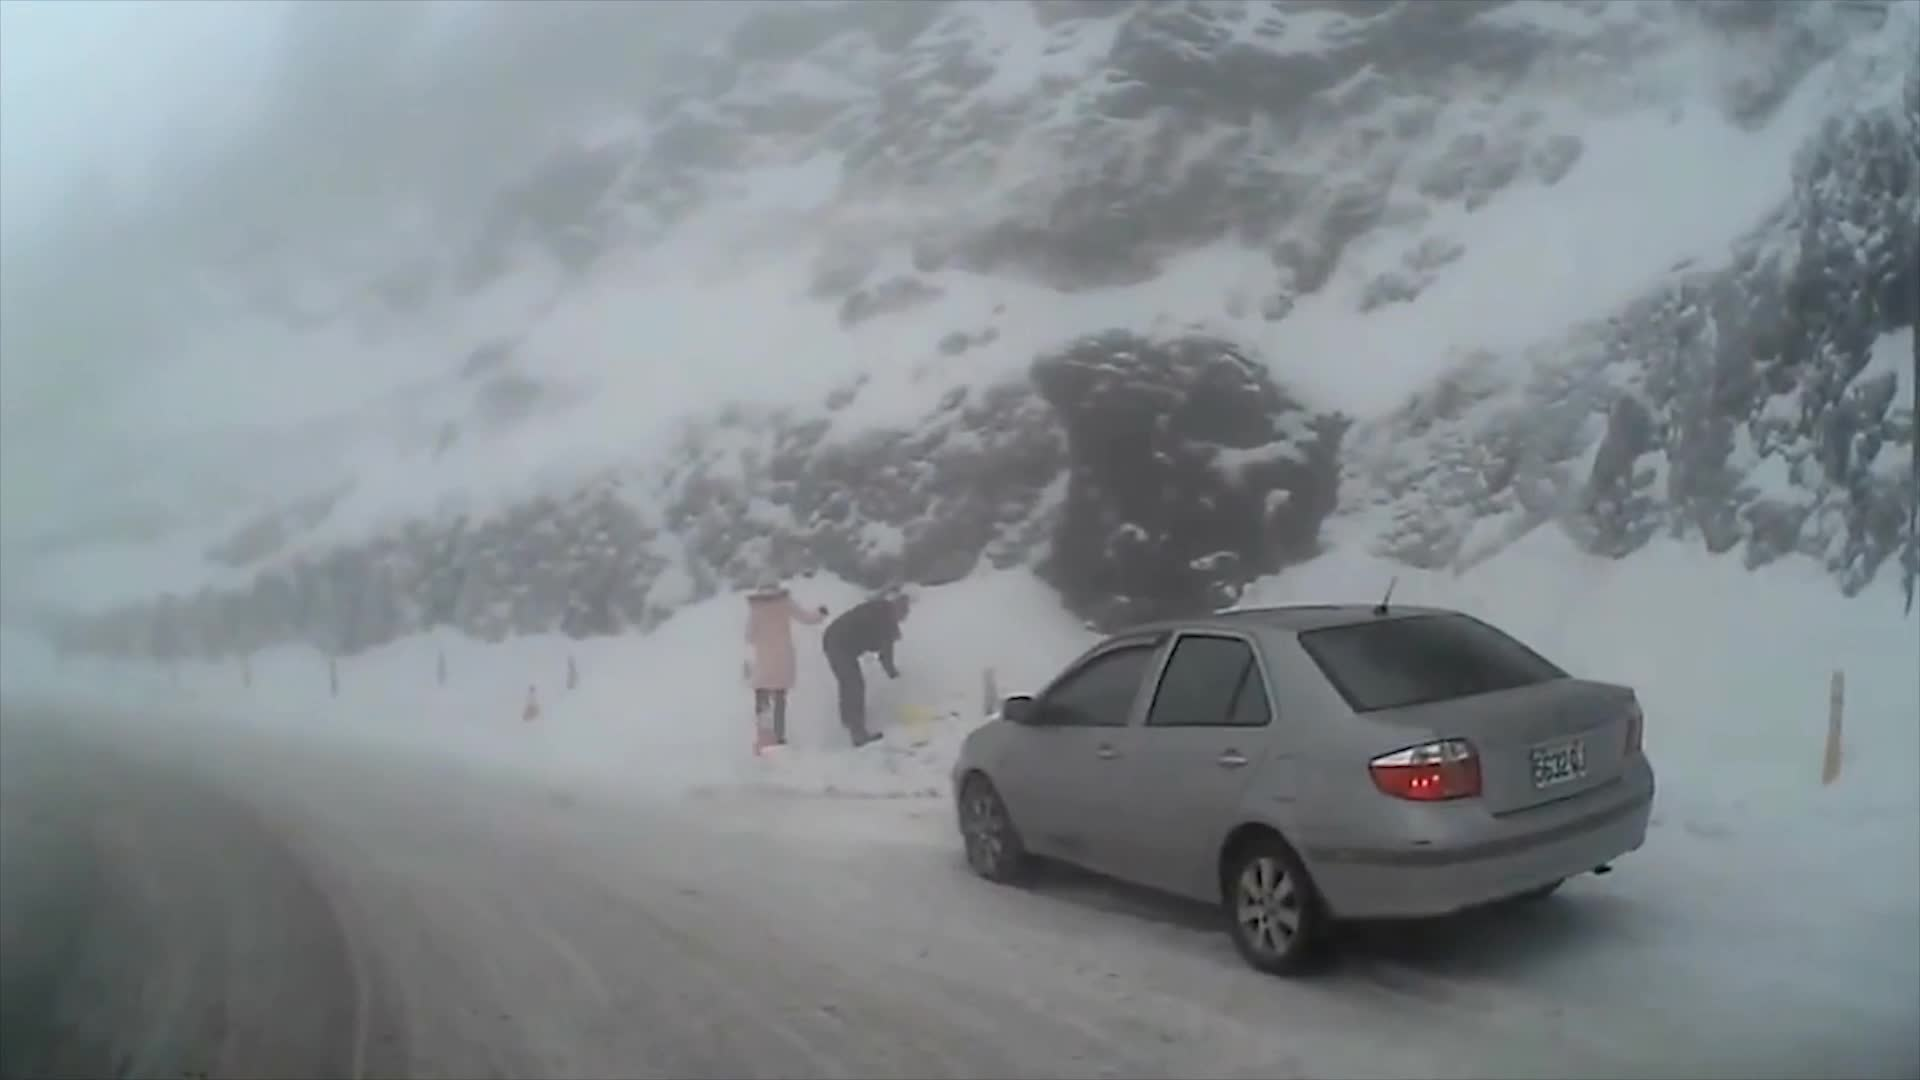pedestrian: (739, 571, 829, 746), (824, 595, 913, 744)
vehicle: (954, 602, 1655, 980)
